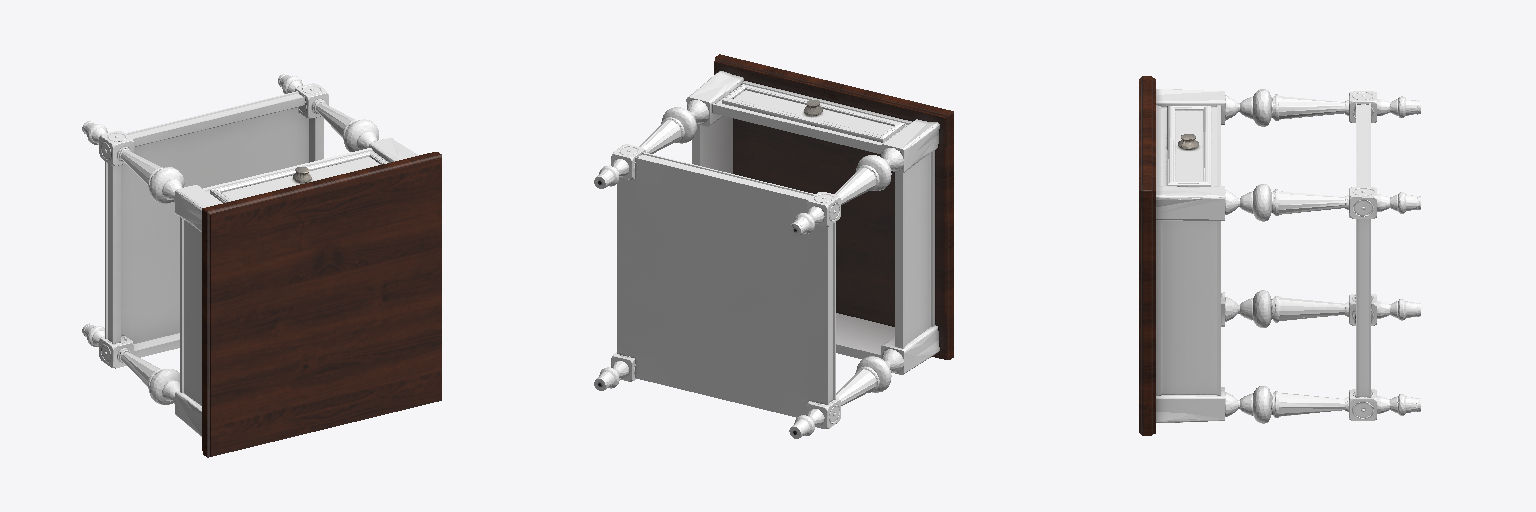
3 renders of one model, left to right at view 1: azimuth 30°, elevation 25°; view 2: azimuth 150°, elevation 25°; view 3: azimuth 270°, elevation 25°, orthographic.
Bounding box in the file's own units: 0.4502 × 0.4502 × 0.4663.
1 materials, 1 textured.